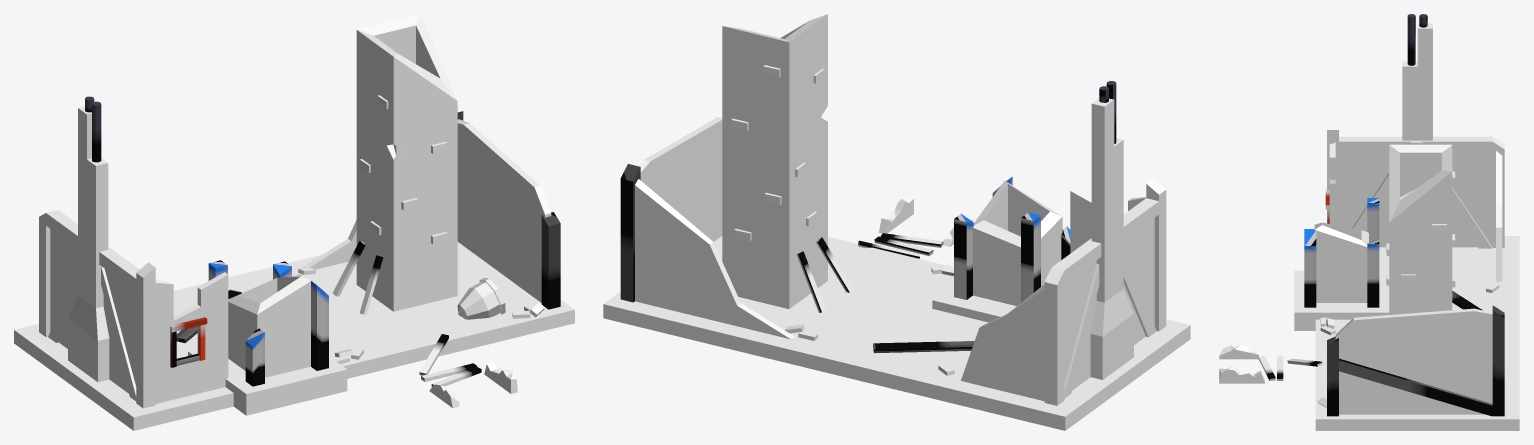
The model's file is TownHallRuins.fbx.
The picture shows the model from 3 angles, left to right: view 1: azimuth 30°, elevation 25°; view 2: azimuth 150°, elevation 25°; view 3: azimuth 270°, elevation 25°; orthographic projection. The views are drawn at different scales.
Visible parts, largest first — view 1: TownHall_Ruins; view 2: TownHall_Ruins; view 3: TownHall_Ruins.
Boxes of the visible parts, x1=… form: TownHall_Ruins: x1=14, y1=14, x2=574, y2=430; TownHall_Ruins: x1=603, y1=14, x2=1190, y2=430; TownHall_Ruins: x1=1219, y1=14, x2=1519, y2=430.
Size of the model in its own units: 516 by 320 by 357.
